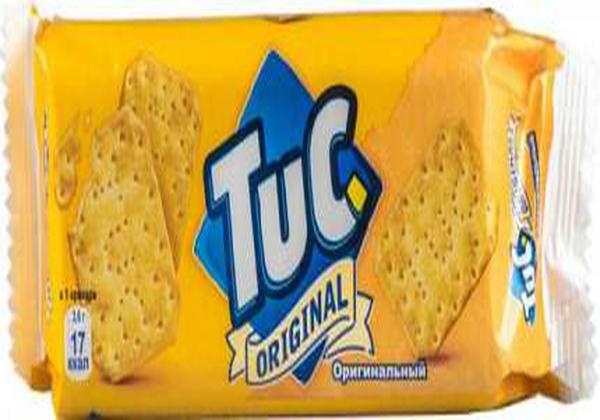crackers tuc: (41, 22, 539, 399)
